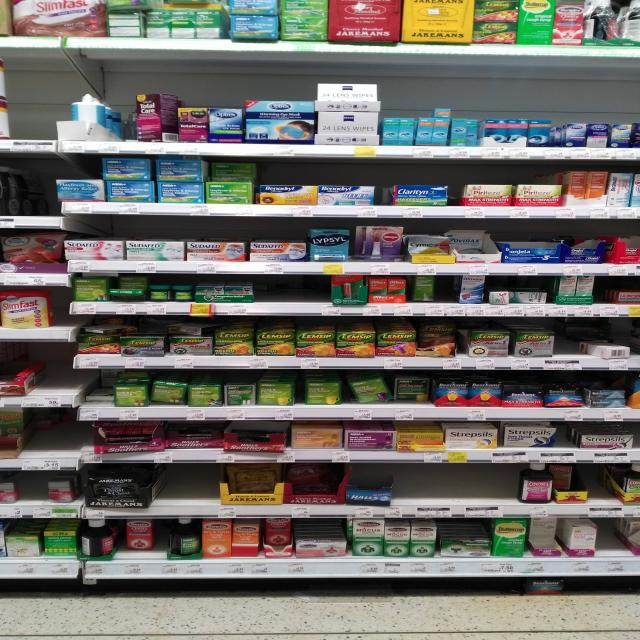void: (9, 82, 58, 150), (393, 464, 453, 516), (454, 466, 515, 517), (156, 465, 214, 516), (15, 166, 52, 227), (38, 344, 70, 406), (294, 276, 330, 318), (55, 410, 78, 471), (260, 276, 292, 315), (604, 520, 623, 553)
